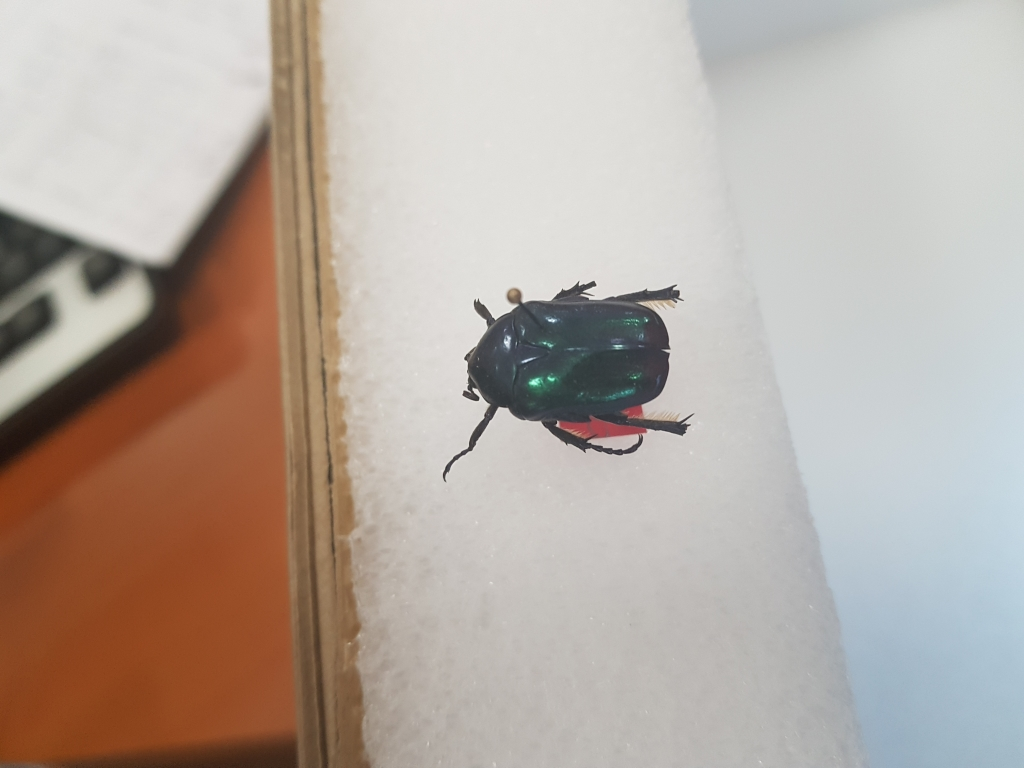Protaetia_besucheti: (435, 279, 716, 487)
